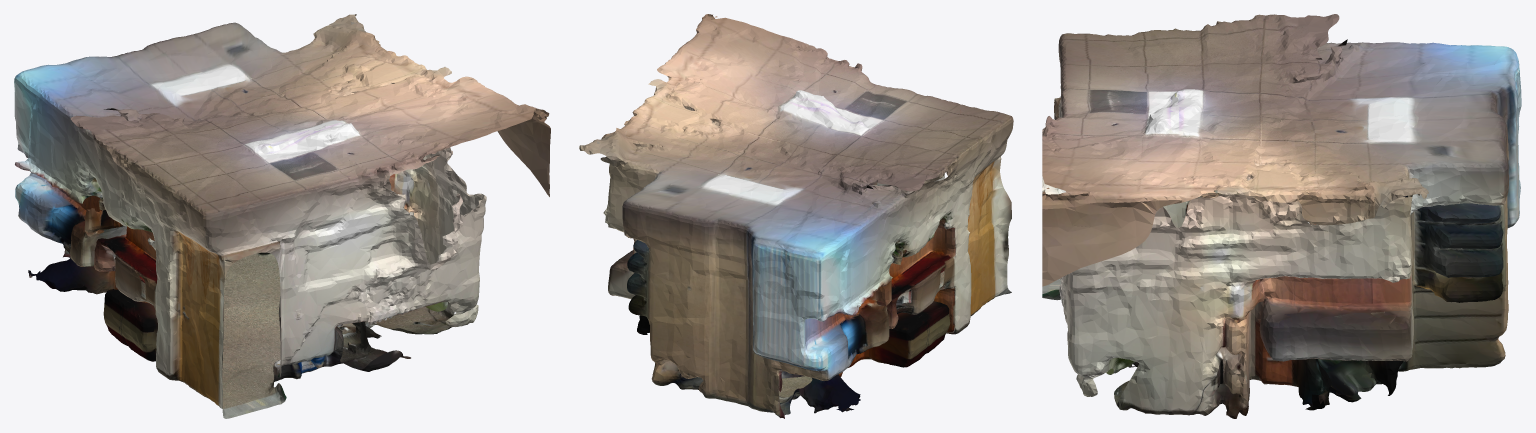
The model's file is office.fbx.
3 renders of one model, left to right at view 1: azimuth 30°, elevation 25°; view 2: azimuth 150°, elevation 25°; view 3: azimuth 270°, elevation 25°, orthographic. The views are drawn at different scales.
Parts seen in each view (by area): view 1: Mesh_0, Mesh_1; view 2: Mesh_0, Mesh_1; view 3: Mesh_0, Mesh_1.
Part boxes in pixels (left/top/right/bottom): Mesh_0: left=15, top=14, right=549, bottom=418; Mesh_1: left=14, top=22, right=550, bottom=410; Mesh_0: left=579, top=14, right=1013, bottom=418; Mesh_1: left=598, top=14, right=1011, bottom=411; Mesh_0: left=1042, top=14, right=1520, bottom=418; Mesh_1: left=1042, top=14, right=1521, bottom=418.
Bounding box in the file's own units: 502 × 308 × 521.
Materials: 2 (2 with a texture image).
